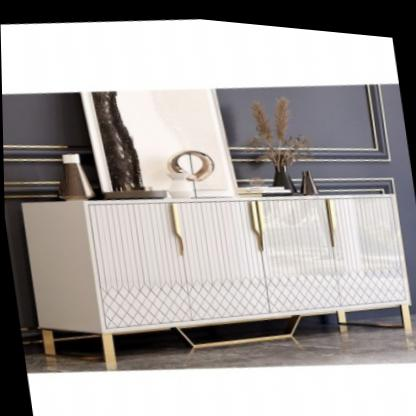Sideboard: (21, 171, 413, 370)
